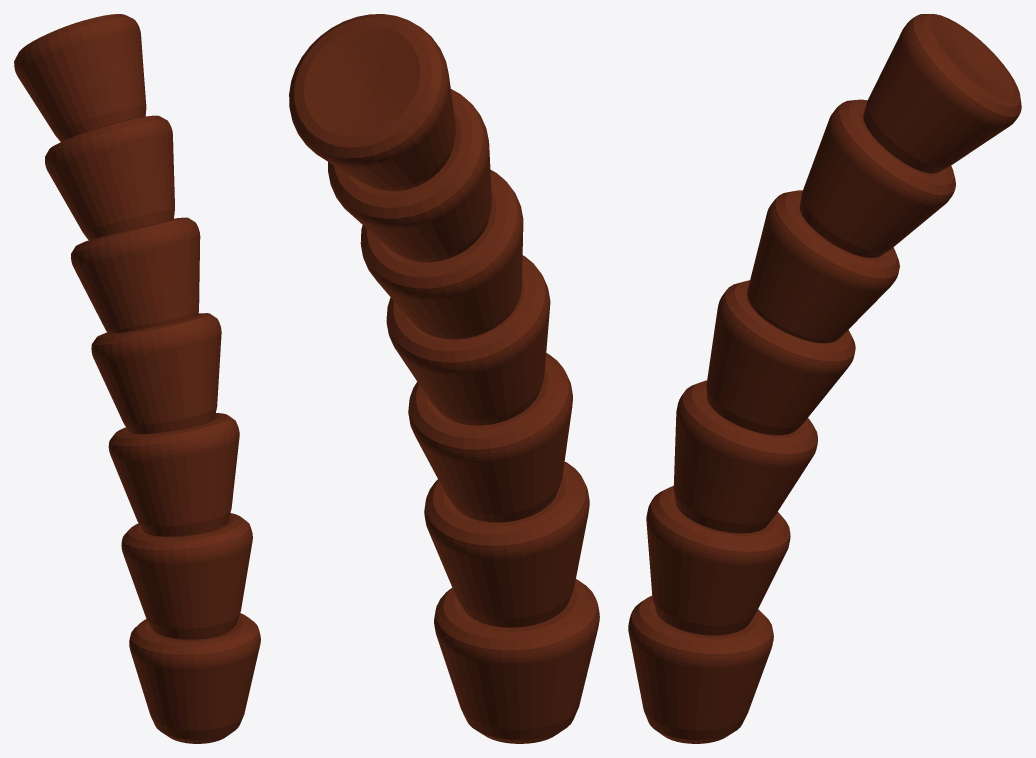
File: Tronco_30_L.obj
3 renders of one model, left to right at view 1: azimuth 30°, elevation 25°; view 2: azimuth 150°, elevation 25°; view 3: azimuth 270°, elevation 25°, orthographic. The views are drawn at different scales.
Visible parts, largest first — view 1: Cylinder.019_Cylinder.012; view 2: Cylinder.019_Cylinder.012; view 3: Cylinder.019_Cylinder.012.
Part boxes in pixels (left/top/right/bottom): Cylinder.019_Cylinder.012: left=14, top=14, right=260, bottom=743; Cylinder.019_Cylinder.012: left=289, top=14, right=599, bottom=743; Cylinder.019_Cylinder.012: left=628, top=14, right=1021, bottom=743.
Size of the model in its own units: 10.74 by 57.53 by 28.94.
